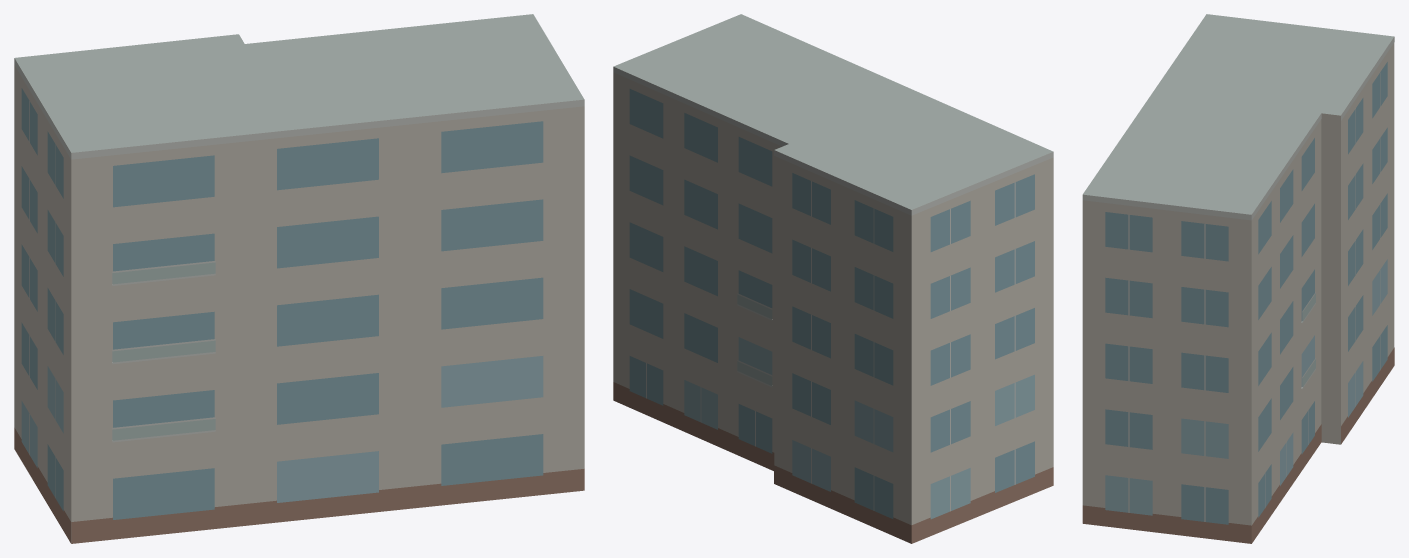
File: survey-upis-33030068.glb
3 views of the same model, side by side, from view 1: azimuth 30°, elevation 25°; view 2: azimuth 150°, elevation 25°; view 3: azimuth 270°, elevation 25° (orthographic). The views are drawn at different scales.
Visible parts, largest first — view 1: survey-upis-33030068.tmp; view 2: survey-upis-33030068.tmp; view 3: survey-upis-33030068.tmp.
Boxes of the visible parts, x1,y1,x2,y2 form: survey-upis-33030068.tmp: [14, 14, 584, 543]; survey-upis-33030068.tmp: [613, 14, 1053, 543]; survey-upis-33030068.tmp: [1082, 14, 1394, 543].
Bounding box in the file's own units: 18.72 × 14.3 × 12.29.
